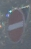No entry: (5, 6, 25, 44)
